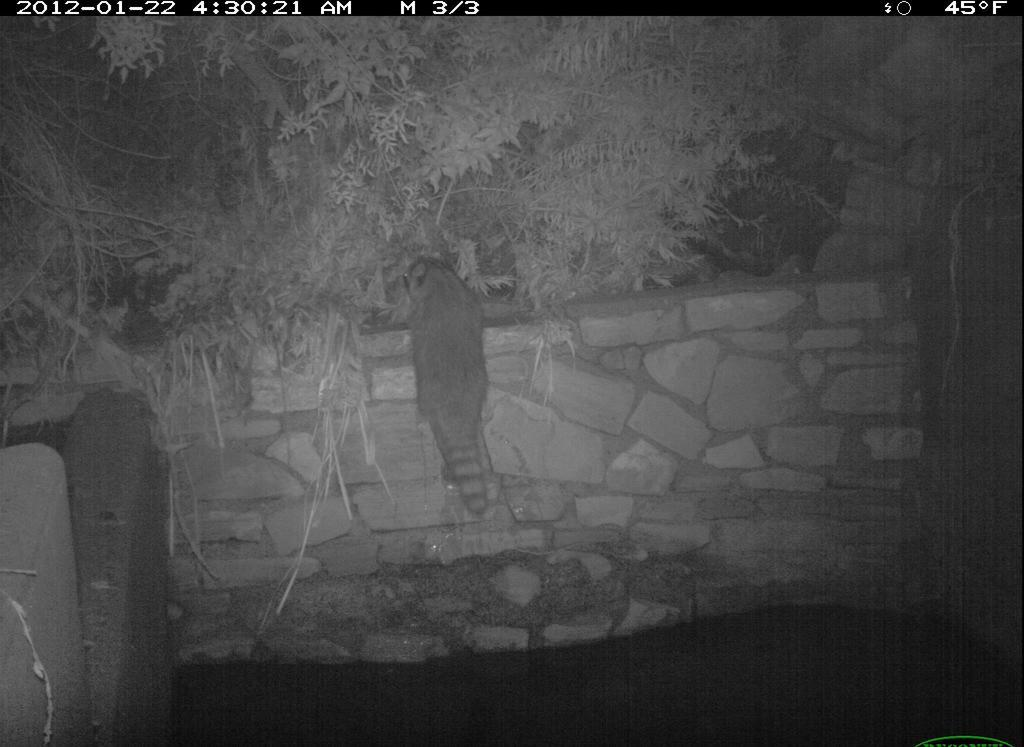raccoon: (393, 235, 510, 529)
